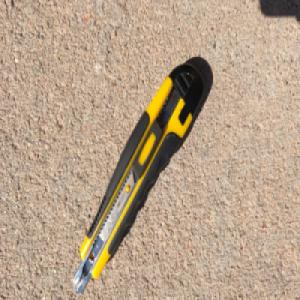Cutter: (71, 60, 205, 295)
